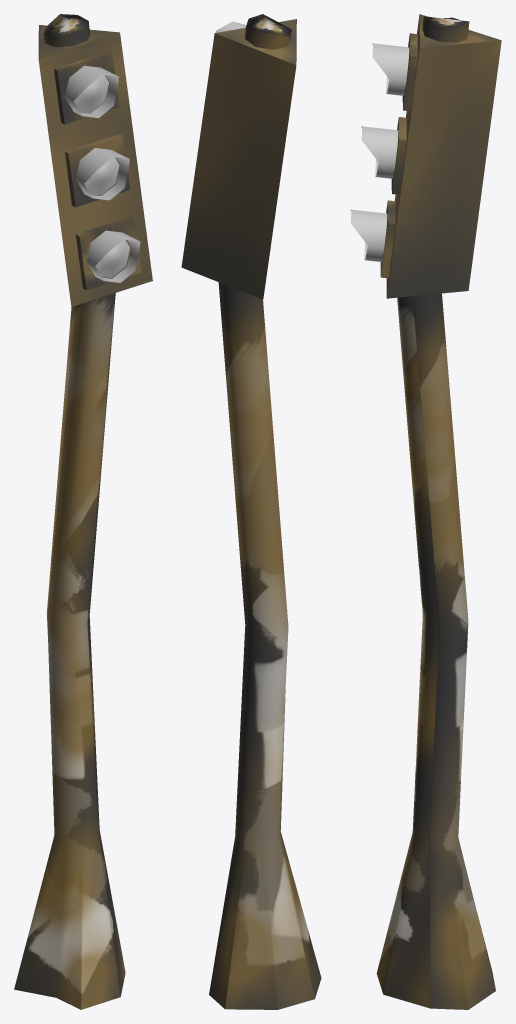
File: stoplight.fbx
3 views of the same model, side by side, from view 1: azimuth 30°, elevation 25°; view 2: azimuth 210°, elevation 25°; view 3: azimuth 270°, elevation 25° (orthographic).
Visible parts, largest first — view 1: stoplightBase, stoplight, stoplightCover_3, stoplightCover_2, stoplightCover_1; view 2: stoplightBase, stoplight; view 3: stoplightBase, stoplight, stoplightCover_3, stoplightCover_2, stoplightCover_1.
Boxes of the visible parts, <box> form: stoplightBase: <box>14,14,125,1009</box>; stoplight: <box>38,25,152,306</box>; stoplightCover_3: <box>65,65,118,117</box>; stoplightCover_2: <box>75,148,129,200</box>; stoplightCover_1: <box>86,230,140,282</box>; stoplightBase: <box>209,14,321,1009</box>; stoplight: <box>181,19,296,299</box>; stoplightBase: <box>376,16,495,1009</box>; stoplight: <box>380,14,501,298</box>; stoplightCover_3: <box>372,43,409,95</box>; stoplightCover_2: <box>361,126,398,178</box>; stoplightCover_1: <box>350,209,387,261</box>.
Size of the model in its own units: 4.72 by 40.55 by 5.77.
